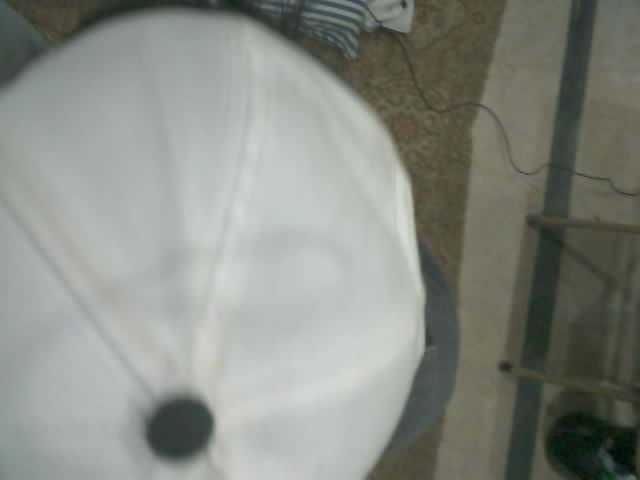cap: (0, 111, 423, 466)
